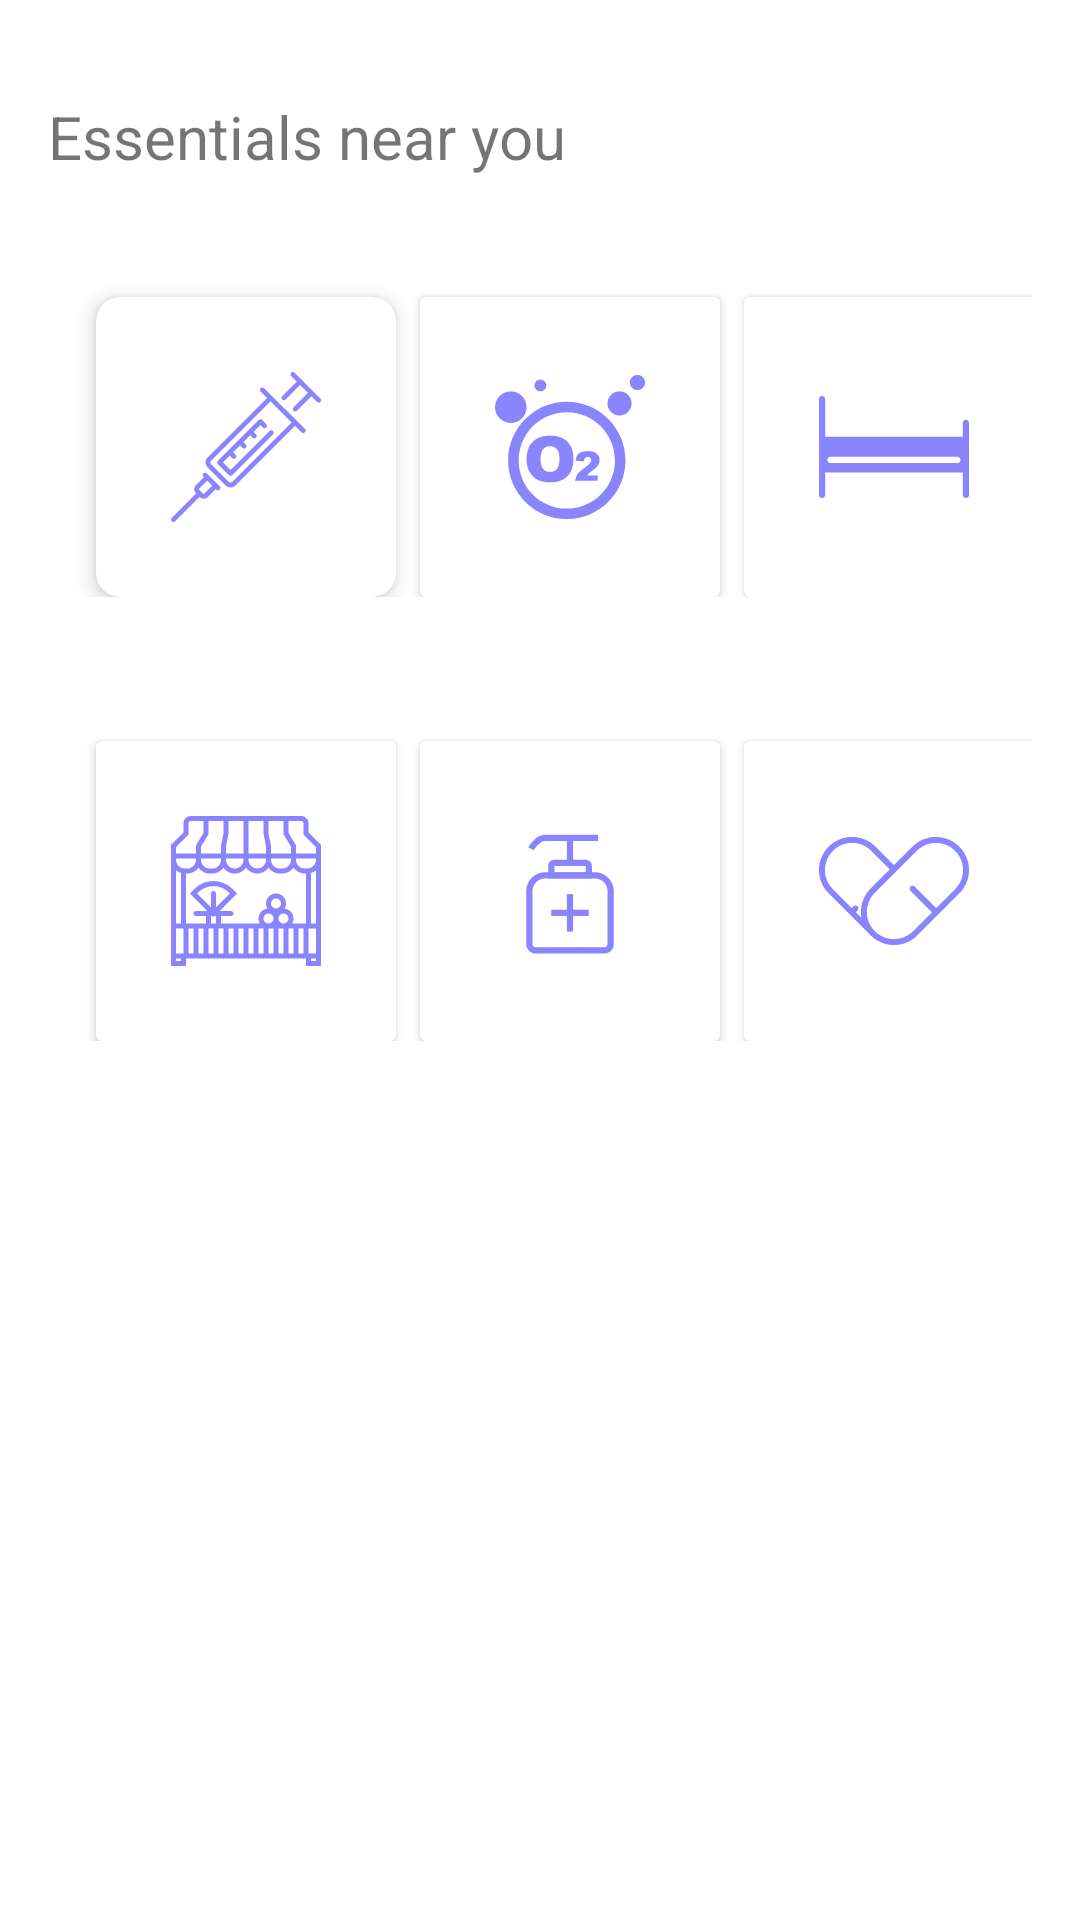

Locate icon controls on the screen. Image size 1080px×1920px, boxes as box(x1, y1, x2, y2).
bed: box(819, 396, 969, 498)
oxygen: box(495, 375, 645, 519)
sanitizer: box(526, 834, 614, 954)
store: box(171, 816, 321, 966)
